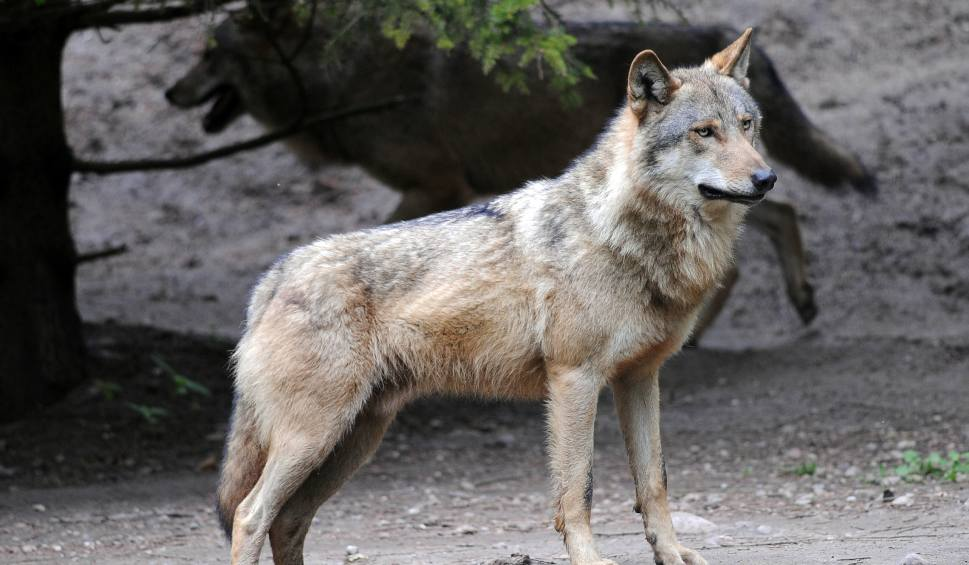wolf: (207, 36, 795, 565)
